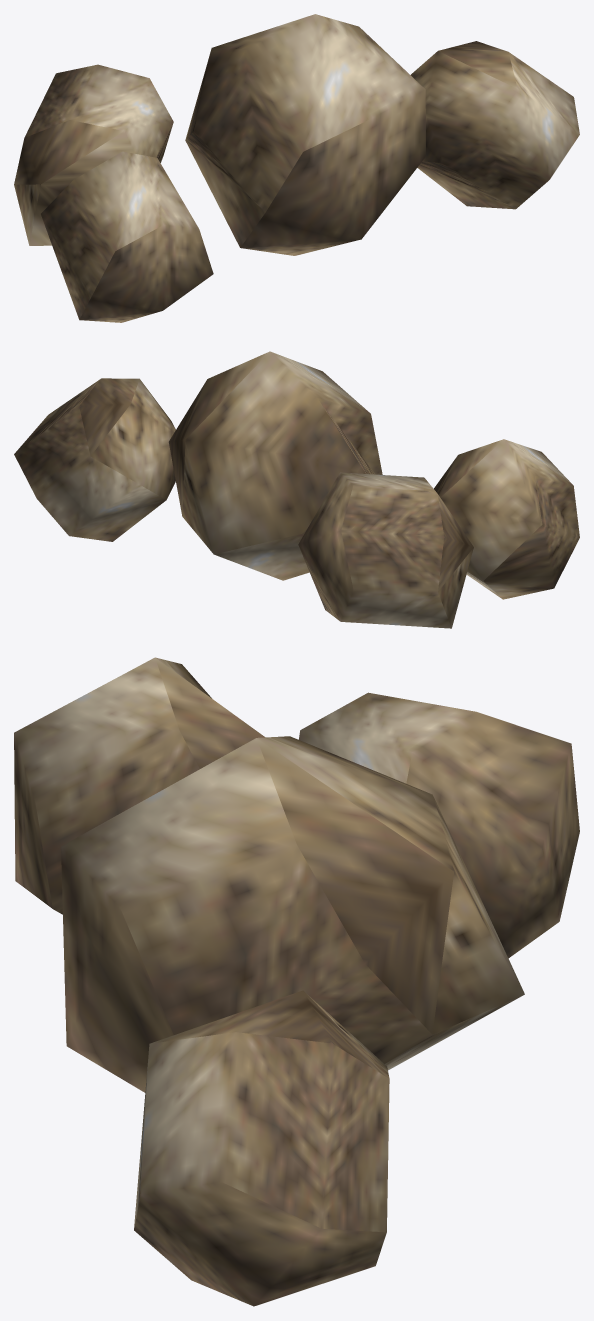
3 views of the same model, one above another, from view 1: azimuth 30°, elevation 25°; view 2: azimuth 150°, elevation 25°; view 3: azimuth 270°, elevation 25° (orthographic). The views are drawn at different scales.
Parts seen in each view (by area): view 1: SMDImport; view 2: SMDImport; view 3: SMDImport.
Boxes of the visible parts, x1,y1,x2,y2 form: SMDImport: (14,14,579,322); SMDImport: (14,351,579,628); SMDImport: (14,657,579,1306).
Bounding box in the file's own units: 81.42 × 34.58 × 42.84.
